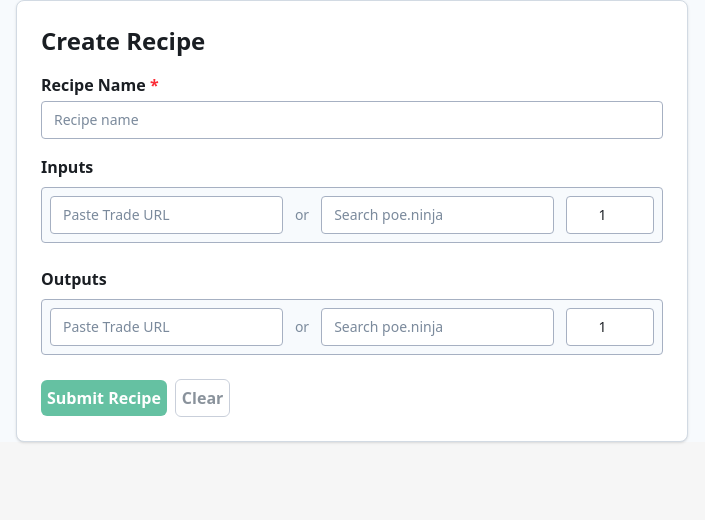
CreateRecipePage › can add and remove input drafts (never fewer than one)
The image size is (705, 520).
In the field with test id "trade-url-input" below "Inputs": (166, 215) [50,196,283,234], type "https://www.pathofexile.com/trade/search/Standard/abcdefghij"
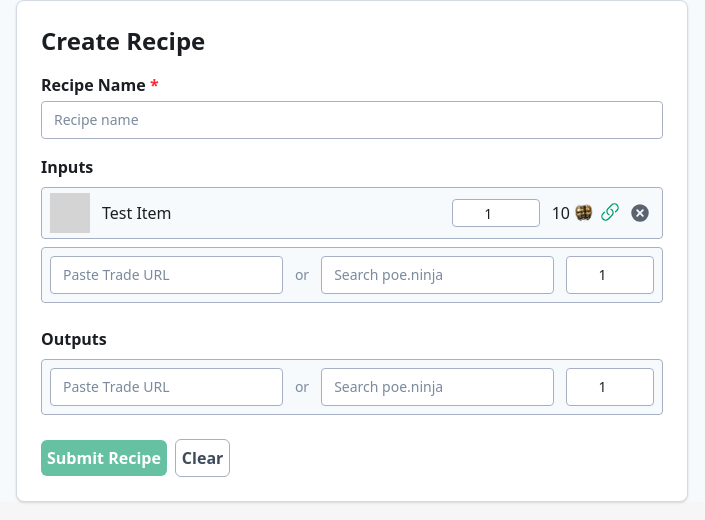
Expected: the number of fields with test id "trade-url-input" is 2, [50,256,283,294]; [50,368,283,406]
Expected: the text "Test Item" is shown, [102,202,172,224]
Note: Remove input (should not go below 1)
Click the button with test id "remove-input-button": click(640, 213) [626,199,654,227]
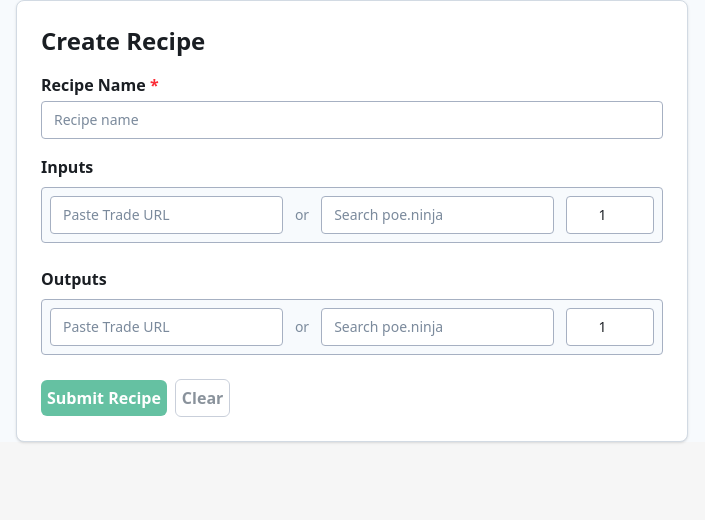
Expected: the number of fields with test id "trade-url-input" is 2, [50,196,283,234]; [50,308,283,346]
Expected: no buttons with test id "remove-input-button" are shown
